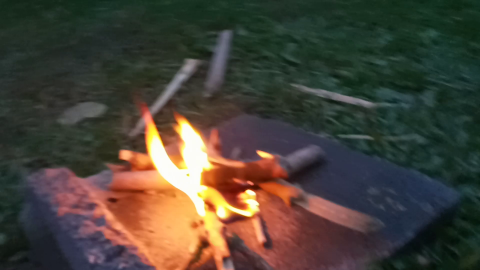fire: (134, 102, 221, 213)
